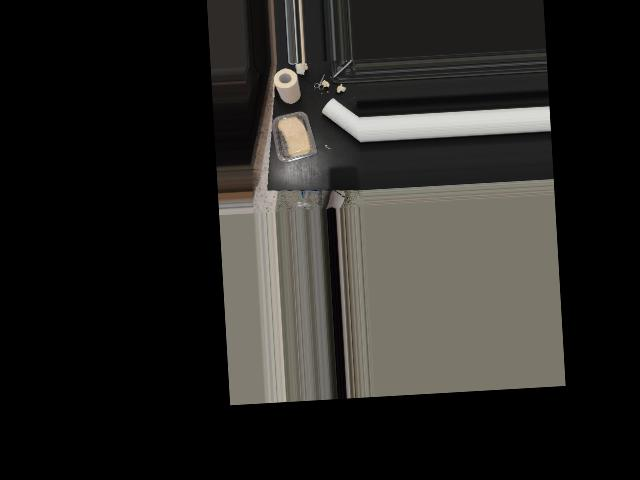cheese: (274, 110, 316, 163)
